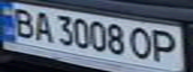0: (87, 19, 109, 53), (69, 16, 90, 51)
3: (51, 12, 75, 47)
8: (106, 21, 130, 57)
A: (30, 9, 57, 43)
B: (6, 6, 39, 39)
O: (127, 25, 157, 61)
P: (148, 27, 184, 65)
